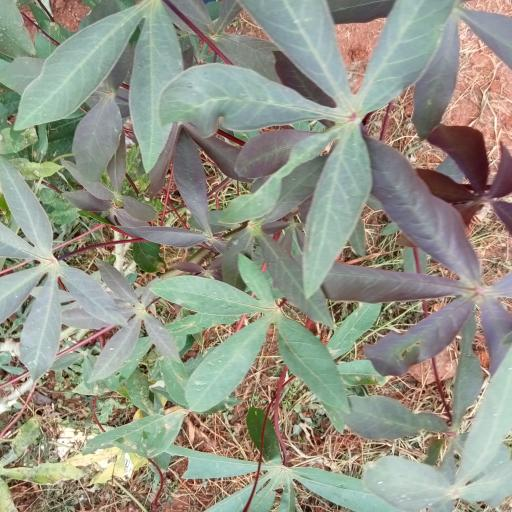Cassava_Healthy: (160, 0, 462, 287), (361, 130, 512, 389), (154, 258, 354, 414), (0, 160, 121, 382)
